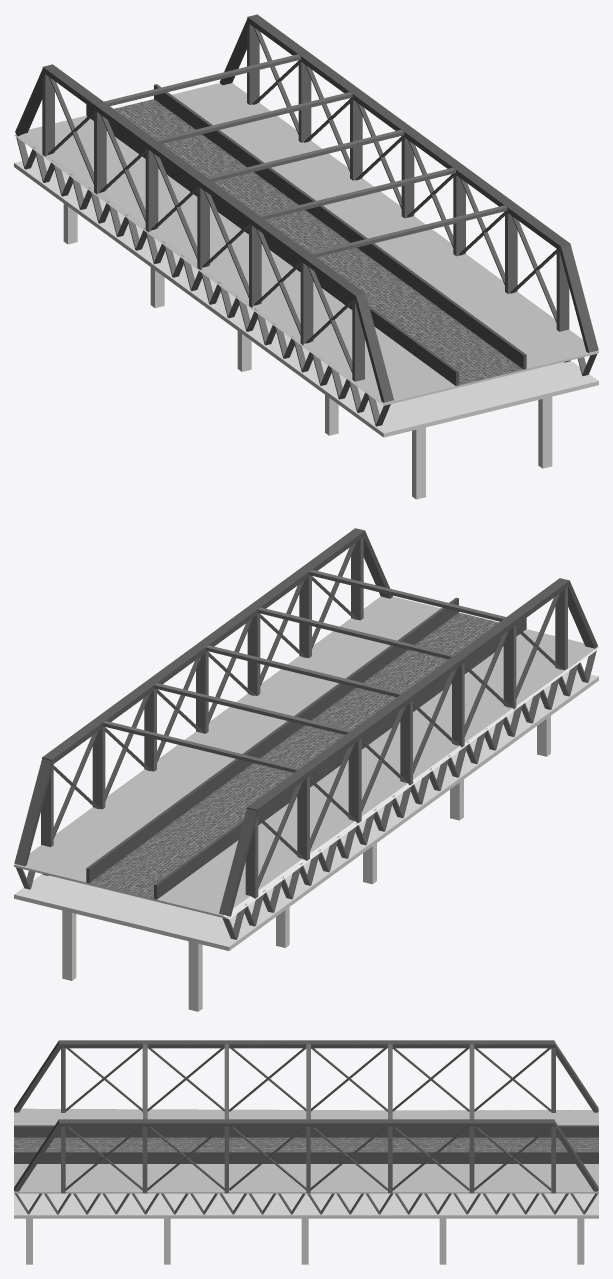
File: Bridge.fbx
The picture shows the model from 3 angles, top to bottom: view 1: azimuth 30°, elevation 25°; view 2: azimuth 150°, elevation 25°; view 3: azimuth 270°, elevation 25°; orthographic projection. The views are drawn at different scales.
Parts seen in each view (by area): view 1: MainBridge.002, MainBridge.001, MainBridge.003, Cube.005, Cube.004, Cube.077, Cube.006, Side_Balks.001, Cube.008, Cube.007, Legs.001; view 2: MainBridge.002, MainBridge.001, MainBridge.003, Cube.005, Cube.004, Cube.077, Cube.006, Side_Balks.001, Cube.008, Cube.007, Legs.001; view 3: MainBridge.001, MainBridge.002, MainBridge.003, Cube.077, Cube.004, Cube.005, Cube.007, Cube.008, Side_Balks.001, Legs.001, Cube.006.
Boxes of the visible parts, box(x1,y1,x2,y2) form: MainBridge.002: box(24, 83, 598, 403); MainBridge.001: box(14, 84, 598, 437); MainBridge.003: box(114, 99, 523, 385); Cube.005: box(104, 24, 569, 331); Cube.004: box(15, 64, 393, 402); Cube.077: box(220, 14, 598, 352); Cube.006: box(42, 74, 364, 381); Side_Balks.001: box(16, 134, 596, 426); Cube.008: box(48, 77, 352, 372); Cube.007: box(252, 27, 556, 322); Legs.001: box(63, 203, 552, 499); MainBridge.002: box(14, 596, 598, 915); MainBridge.001: box(14, 597, 598, 950); MainBridge.003: box(89, 612, 498, 898); Cube.005: box(41, 537, 506, 847); Cube.004: box(219, 578, 597, 916); Cube.077: box(14, 528, 392, 866); Cube.006: box(245, 587, 567, 898); Side_Balks.001: box(16, 650, 596, 939); Cube.008: box(258, 593, 562, 888); Cube.007: box(53, 542, 357, 838); Legs.001: box(62, 716, 550, 1011); MainBridge.001: box(14, 1110, 598, 1218); MainBridge.002: box(14, 1108, 598, 1191); MainBridge.003: box(14, 1137, 598, 1151); Cube.077: box(14, 1119, 598, 1191); Cube.004: box(14, 1040, 598, 1112); Cube.005: box(61, 1044, 555, 1193); Cube.007: box(65, 1127, 551, 1190); Cube.008: box(65, 1048, 551, 1111); Side_Balks.001: box(15, 1110, 597, 1214); Legs.001: box(26, 1218, 584, 1264); Cube.006: box(61, 1048, 555, 1112).
Size of the model in its own units: 3734 by 3280 by 11100.
